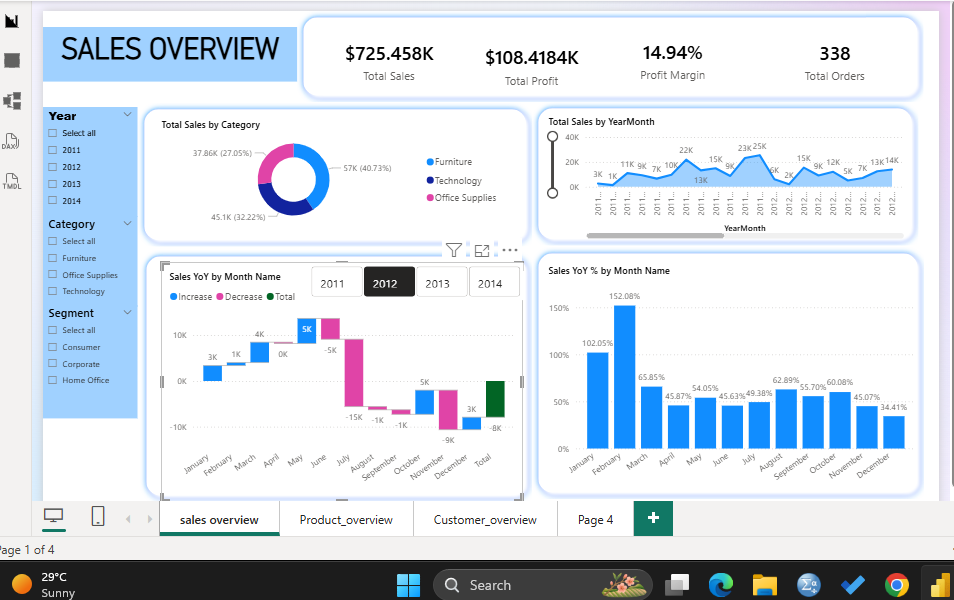

The page's visual inventory and layout, read from the dashboard file:
{"tool":"powerbi","page":{"name":"sales overview","canvas":[1280,720],"ordinal":0},"visuals":[{"type":"shape","box":[135,131.7,563.3,205],"z":0},{"type":"shape","box":[363.3,0,895,130],"z":1000},{"type":"shape","box":[698.3,130,551.7,205],"z":2000},{"type":"shape","box":[527.5,462.5,350,240],"z":3000},{"type":"shape","box":[138.3,341.7,560,360],"z":4000},{"type":"shape","box":[698.3,336.7,560,360],"z":5000},{"type":"slicer","fields":{"Values":["DimDate.Year"]},"box":[0,136.7,135,156.7],"z":6000},{"type":"slicer","fields":{"Values":["DimProduct.Category"]},"box":[0,293.3,135,130],"z":7000},{"type":"slicer","fields":{"Values":["DimCustomer.Segment"]},"box":[0,420,135,161.7],"z":8000},{"type":"card","fields":{"Values":["Walmart.Total Sales"]},"box":[378.3,11.7,231.7,118.3],"z":9000},{"type":"card","fields":{"Values":["Walmart.Total Profit"]},"box":[566.7,1.7,261.7,151.7],"z":10000},{"type":"card","fields":{"Values":["Walmart.Profit Margin"]},"box":[741.7,0,316.7,140],"z":11000},{"type":"card","fields":{"Values":["Walmart.Total Orders"]},"box":[983.3,1.7,296.7,140],"z":12000},{"type":"areaChart","fields":{"Category":["DimDate.YearMonth"],"Y":["Walmart.Total Sales"]},"box":[710,136.7,531.7,200],"z":13000},{"type":"waterfallChart","fields":{"Category":["Calendar.Month Name"],"Y":["Walmart.Sales YoY"]},"box":[168.3,358.3,516.7,343.3],"z":15000},{"type":"clusteredColumnChart","fields":{"Category":["Calendar.Month Name"],"Y":["Walmart.Sales YoY %"]},"box":[709.9,349.9,548.6,347],"z":16000},{"type":"advancedSlicerVisual","fields":{"Values":["Calendar.Year"]},"box":[378.3,360,308.3,53.3],"z":17000},{"type":"textbox","box":[0,23.3,363.3,78.3],"z":18000},{"type":"donutChart","fields":{"Category":["DimProduct.Category"],"Y":["Walmart.Total Sales"]},"box":[156.7,141.7,511.7,176.7],"z":19000}]}

Visuals, with their boxes on the page's 1280x720 design canvas (x1, y1, x2, y2). These are canvas units, not pixel positions in the 954x600 screenshot, which may show the page scaled, cropped or inside an application window:
shape: select_region(135, 132, 698, 337)
shape: select_region(363, 0, 1258, 130)
shape: select_region(698, 130, 1250, 335)
shape: select_region(528, 462, 878, 702)
shape: select_region(138, 342, 698, 702)
shape: select_region(698, 337, 1258, 697)
slicer - DimDate.Year: select_region(0, 137, 135, 293)
slicer - DimProduct.Category: select_region(0, 293, 135, 423)
slicer - DimCustomer.Segment: select_region(0, 420, 135, 582)
card - Walmart.Total Sales: select_region(378, 12, 610, 130)
card - Walmart.Total Profit: select_region(567, 2, 828, 153)
card - Walmart.Profit Margin: select_region(742, 0, 1058, 140)
card - Walmart.Total Orders: select_region(983, 2, 1280, 142)
areaChart - DimDate.YearMonth x Walmart.Total Sales: select_region(710, 137, 1242, 337)
waterfallChart - Calendar.Month Name x Walmart.Sales YoY: select_region(168, 358, 685, 702)
clusteredColumnChart - Calendar.Month Name x Walmart.Sales YoY %: select_region(710, 350, 1258, 697)
advancedSlicerVisual - Calendar.Year: select_region(378, 360, 687, 413)
textbox: select_region(0, 23, 363, 102)
donutChart - DimProduct.Category x Walmart.Total Sales: select_region(157, 142, 668, 318)
